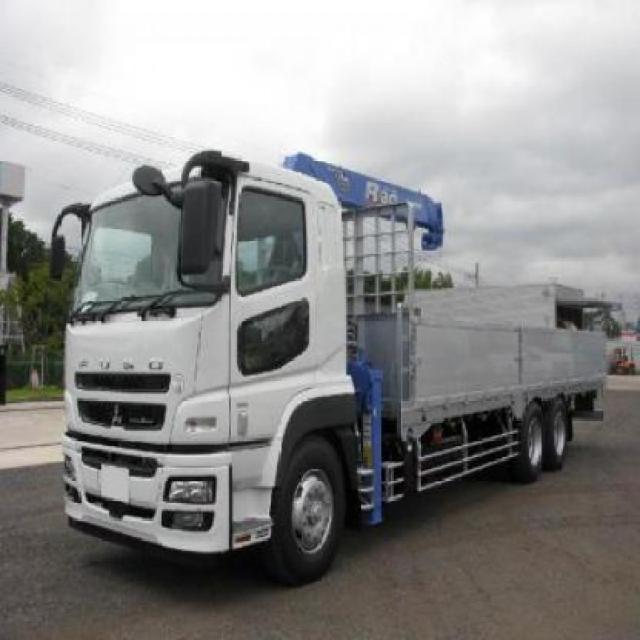truck: (52, 152, 605, 581)
